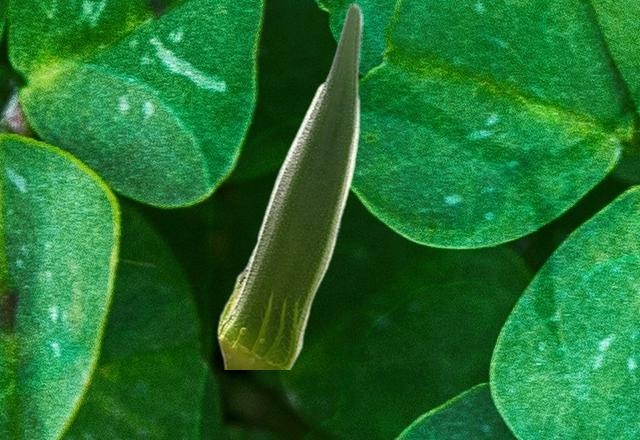okra: (216, 1, 362, 368)
